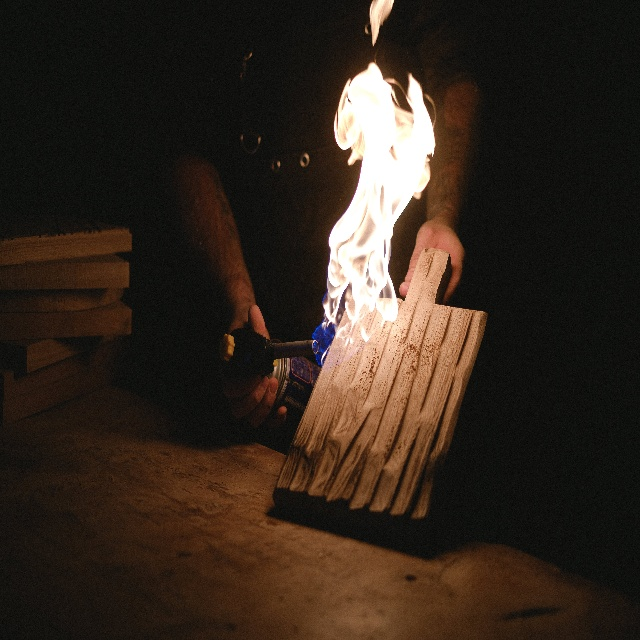Sin_guantes: (216, 303, 287, 438), (399, 210, 467, 307)
